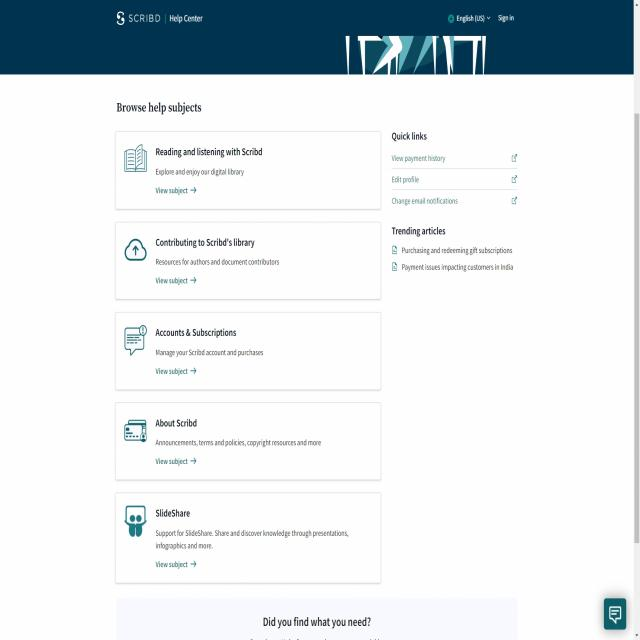menu-bar: (443, 6, 518, 28)
side-panel: (388, 124, 522, 279)
